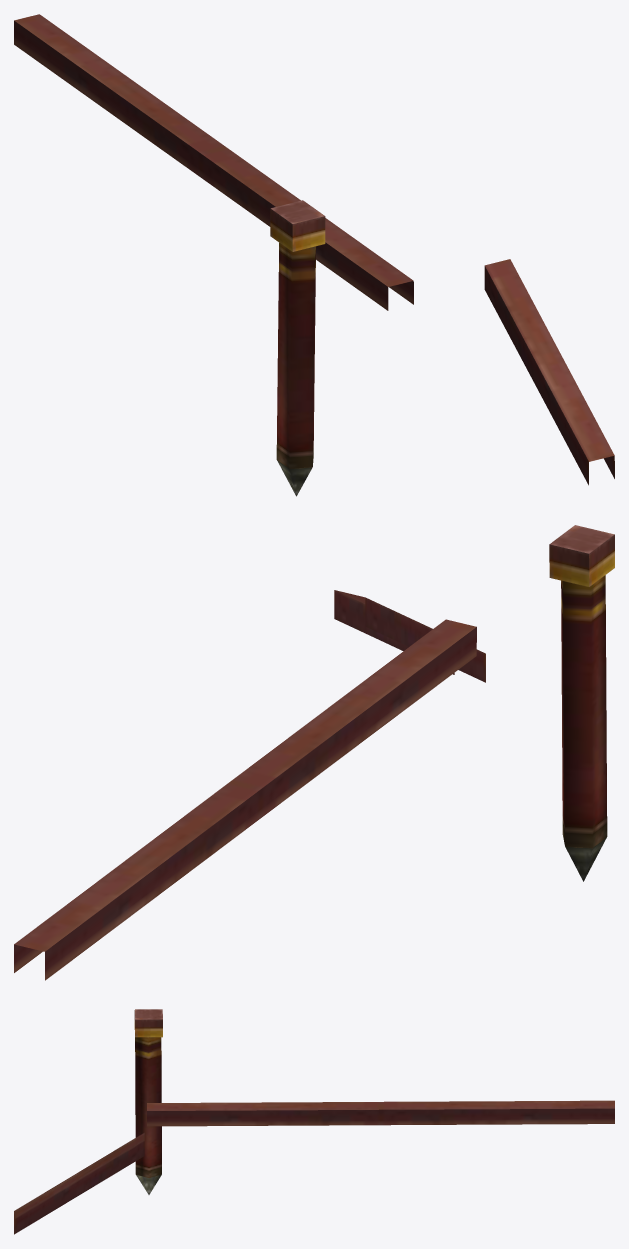
The model's file is Yland1_q_07 Yland1.FBX.
3 renders of one model, top to bottom at view 1: azimuth 30°, elevation 25°; view 2: azimuth 150°, elevation 25°; view 3: azimuth 270°, elevation 25°, orthographic. The views are drawn at different scales.
Visible parts, largest first — view 1: Yland1_q_07 Yland1, Yland1_q_08 Yland1, Yland1_q_09 Yland1; view 2: Yland1_q_07 Yland1, Yland1_q_08 Yland1, Yland1_q_09 Yland1; view 3: Yland1_q_07 Yland1, Yland1_q_08 Yland1, Yland1_q_09 Yland1.
Boxes of the visible parts, left/top/right/bottom form: Yland1_q_07 Yland1: left=14, top=14, right=413, bottom=310; Yland1_q_08 Yland1: left=270, top=200, right=325, bottom=496; Yland1_q_09 Yland1: left=484, top=259, right=614, bottom=485; Yland1_q_07 Yland1: left=14, top=619, right=476, bottom=980; Yland1_q_08 Yland1: left=549, top=525, right=614, bottom=881; Yland1_q_09 Yland1: left=334, top=590, right=485, bottom=682; Yland1_q_07 Yland1: left=147, top=1100, right=614, bottom=1126; Yland1_q_08 Yland1: left=134, top=1009, right=162, bottom=1194; Yland1_q_09 Yland1: left=14, top=1132, right=144, bottom=1234.
Bounding box in the file's own units: 2.43 × 2.89 × 8.68.
